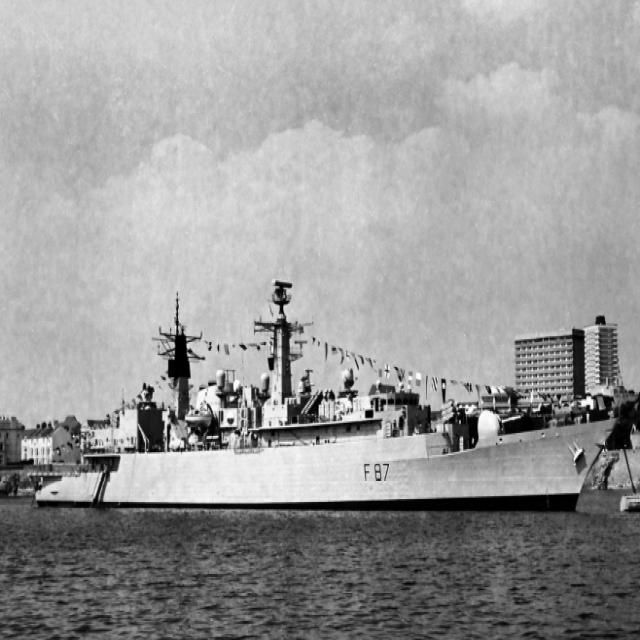Fragata: (19, 268, 632, 534)
